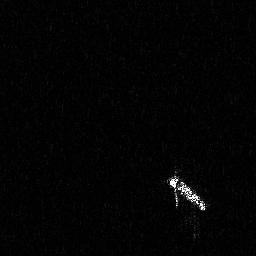ship: (161, 167, 210, 213)
